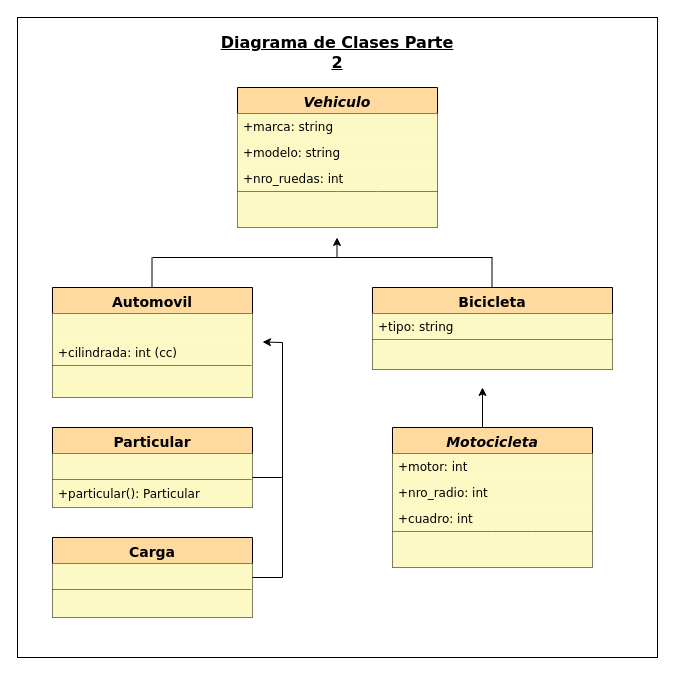
Some shapes in this 675 by 675 pixel diagram are drawn without their labels. The centre of each missing label's shape, as x and y in pixels:
"+automovil(): Automovil" goes at point (152, 381).
"+bicicleta(): Bicicleta" goes at point (492, 354).
"+carga(): Carga" goes at point (152, 603).
"+carga: int (Kg)" goes at point (152, 576).
"+motocicleta(): Motocicleta" goes at point (492, 549).
"+nro_puesto: int" goes at point (152, 466).
"+vehiculo(): Vehiculo" goes at point (337, 209).
"+velocidad: int (Km/h)" goes at point (152, 326).
